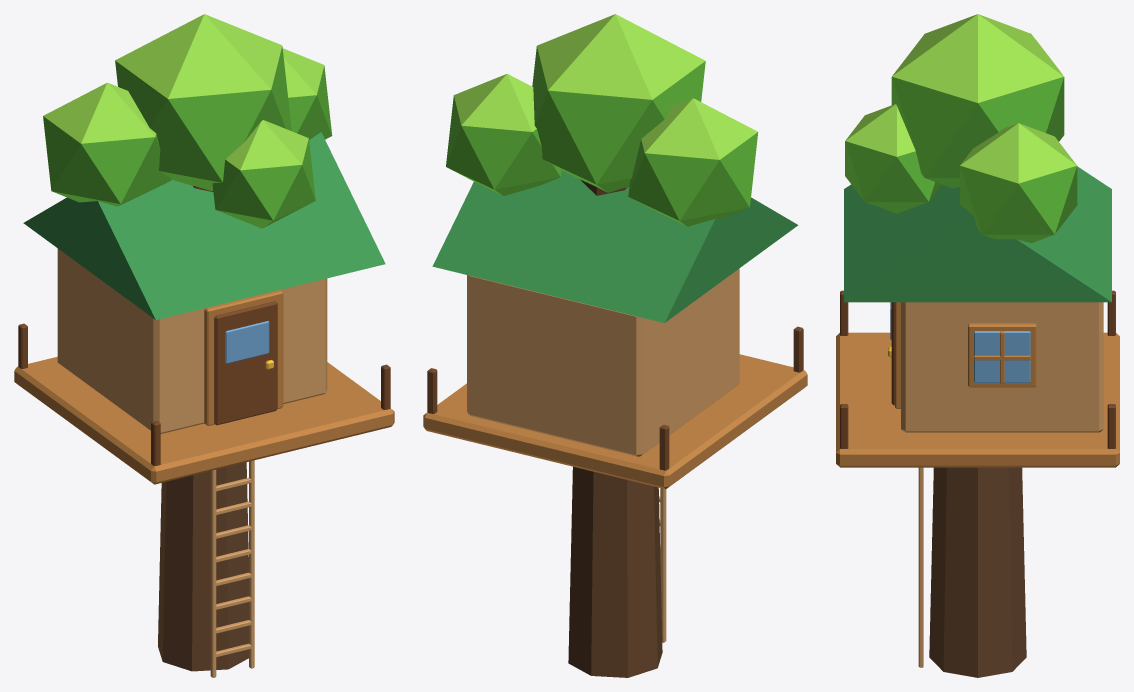
The model's file is Treehouse.fbx.
3 views of the same model, side by side, from view 1: azimuth 30°, elevation 25°; view 2: azimuth 150°, elevation 25°; view 3: azimuth 270°, elevation 25° (orthographic).
Parts seen in each view (by area): view 1: Treehouse; view 2: Treehouse; view 3: Treehouse.
Part boxes in pixels (x1,y1,x2,y2): Treehouse: (14,14,394,677); Treehouse: (423,14,807,677); Treehouse: (836,14,1119,677).
Size of the model in its own units: 8.13 by 17.5 by 7.
1 material, 1 textured.
